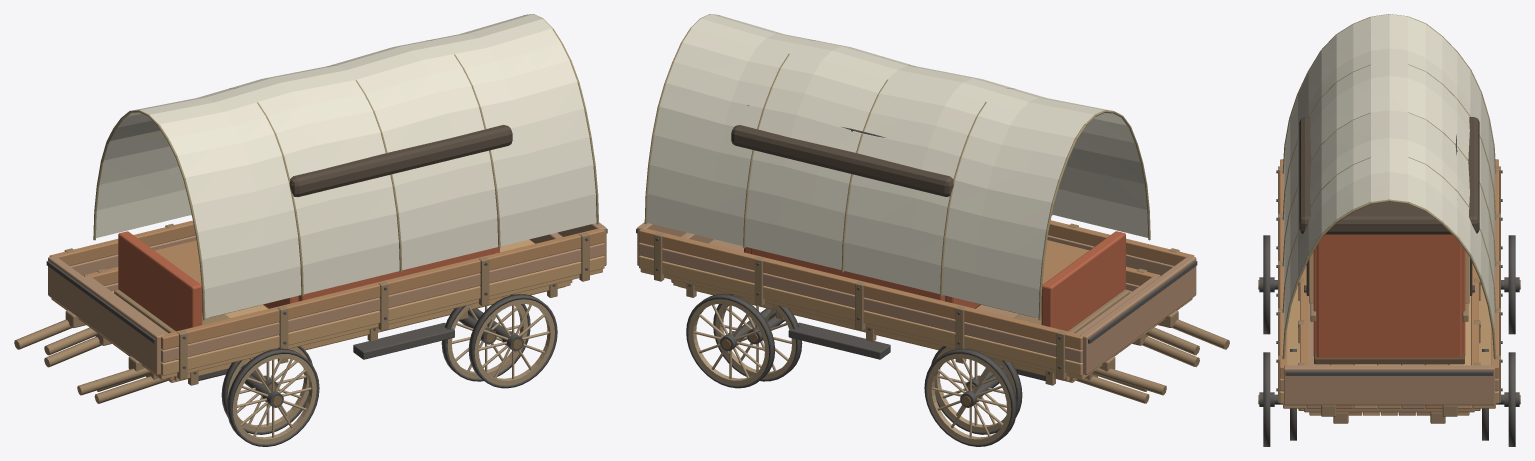
The model's file is frontier-transport.glb.
3 views of the same model, side by side, from view 1: azimuth 30°, elevation 25°; view 2: azimuth 150°, elevation 25°; view 3: azimuth 270°, elevation 25° (orthographic). The views are drawn at different scales.
Visible parts, largest first — view 1: Dirty linen stretch cover.003, Faded oak planks 1.001, Faded oak planks 2.001, Faded oak planks 0.001, Oxide-red walnut coach panels.003, Weathered oak felloe.001, Black leather coach roof.003, Wrought iron tyres and bolts.001, White oak carriage frame.001, Dark linen stitching.003, Weathered oak felloe, White oak carriage frame.003 (+6 smaller); view 2: Dirty linen stretch cover.003, Faded oak planks 1.001, Faded oak planks 2.001, Faded oak planks 0.001, Oxide-red walnut coach panels.003, Weathered oak felloe.001, Black leather coach roof.003, Wrought iron tyres and bolts.001, White oak carriage frame.001, Dark linen stitching.003, Weathered oak felloe, White oak carriage frame.003 (+6 smaller); view 3: Dirty linen stretch cover.003, Oxide-red walnut coach panels.003, Faded oak planks 1.001, Black leather coach roof.003, Wrought iron tyres and bolts.001, Dark linen stitching.003, Faded oak planks 0.001, Faded oak planks 2.001, Faded oak planks 2, White oak carriage frame.001, Dark seasoned oak underframe, Faded oak planks 1 (+4 smaller).
Boxes of the visible parts, <box> form: Dirty linen stretch cover.003: <box>96,14,596,318</box>; Faded oak planks 1.001: <box>48,222,606,374</box>; Faded oak planks 2.001: <box>49,220,604,356</box>; Faded oak planks 0.001: <box>51,255,604,379</box>; Oxide-red walnut coach panels.003: <box>118,231,499,331</box>; Weathered oak felloe.001: <box>232,299,554,444</box>; Black leather coach roof.003: <box>290,125,512,197</box>; Wrought iron tyres and bolts.001: <box>46,229,607,446</box>; White oak carriage frame.001: <box>14,223,589,395</box>; Dark linen stitching.003: <box>93,14,598,320</box>; Weathered oak felloe: <box>227,295,527,431</box>; White oak carriage frame.003: <box>44,269,557,403</box>; Dirty linen stretch cover.003: <box>647,14,1148,318</box>; Faded oak planks 1.001: <box>637,222,1196,374</box>; Faded oak planks 2.001: <box>639,220,1194,356</box>; Faded oak planks 0.001: <box>639,255,1192,379</box>; Oxide-red walnut coach panels.003: <box>744,231,1125,331</box>; Weathered oak felloe.001: <box>688,299,1011,444</box>; Black leather coach roof.003: <box>731,125,953,196</box>; Wrought iron tyres and bolts.001: <box>636,228,1197,446</box>; White oak carriage frame.001: <box>654,223,1229,395</box>; Dark linen stitching.003: <box>644,14,1150,320</box>; Weathered oak felloe: <box>715,295,1016,431</box>; White oak carriage frame.003: <box>686,268,1199,403</box>; Dirty linen stretch cover.003: <box>1284,14,1494,332</box>; Oxide-red walnut coach panels.003: <box>1313,234,1465,357</box>; Faded oak planks 1.001: <box>1280,296,1498,408</box>; Black leather coach roof.003: <box>1299,117,1479,234</box>; Wrought iron tyres and bolts.001: <box>1259,170,1519,446</box>; Dark linen stitching.003: <box>1282,14,1496,358</box>; Faded oak planks 0.001: <box>1280,284,1498,408</box>; Faded oak planks 2.001: <box>1280,159,1498,408</box>; Faded oak planks 2: <box>1300,263,1478,415</box>; White oak carriage frame.001: <box>1278,166,1500,416</box>; Dark seasoned oak underframe: <box>1314,353,1464,365</box>; Faded oak planks 1: <box>1304,405,1474,415</box>.
Bounding box in the file's own units: 5.34 × 3 × 2.49.
